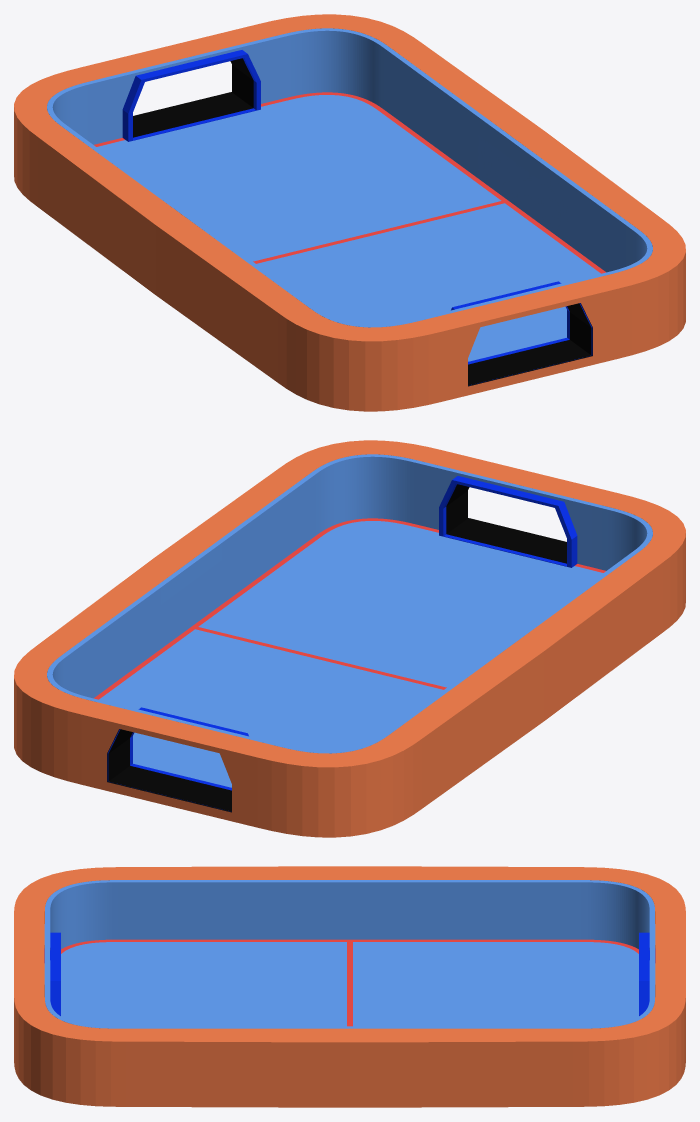
The model's file is oregatukuritaige-mu 1.fbx.
The picture shows the model from 3 angles, top to bottom: view 1: azimuth 30°, elevation 25°; view 2: azimuth 150°, elevation 25°; view 3: azimuth 270°, elevation 25°; orthographic projection. The views are drawn at different scales.
Parts seen in each view (by area): view 1: barrier2, ground, barrier1, goal; view 2: barrier2, ground, barrier1, goal; view 3: barrier2, ground, barrier1, goal.
Boxes of the visible parts, x1,y1,x2,y2 form: barrier2: (14,14,685,411); ground: (94,92,605,361); barrier1: (47,28,652,327); goal: (122,50,592,385); barrier2: (14,440,685,837); ground: (94,518,605,787); barrier1: (47,454,652,753); goal: (107,476,577,811); barrier2: (14,866,685,1107); ground: (61,939,638,1026); barrier1: (44,880,655,1028); goal: (44,932,655,1015).
Size of the model in its own units: 3422 by 591 by 5514.
4 materials, 4 textured.
